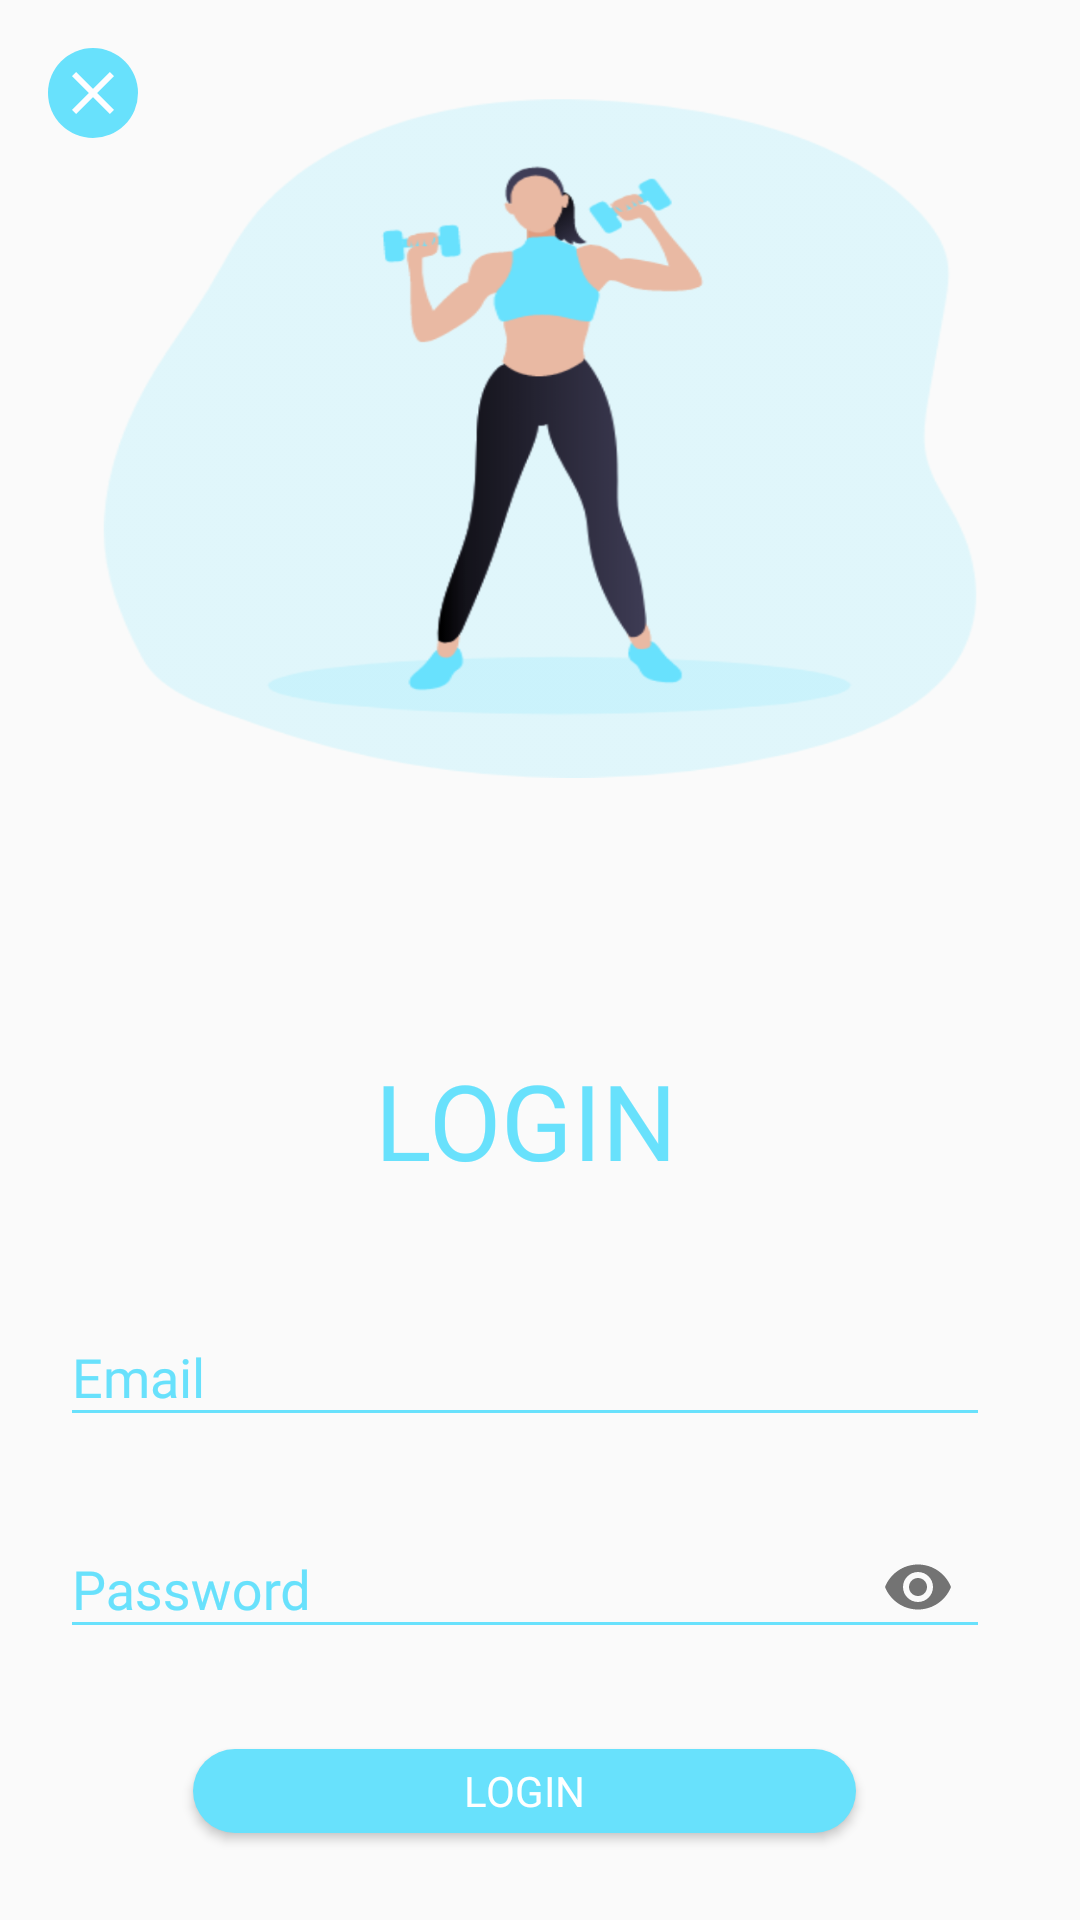

Screen size 1080x1920. Icon name, then its box in pixels as box(x1, y1, x2, y2):
close: box(48, 48, 138, 138)
